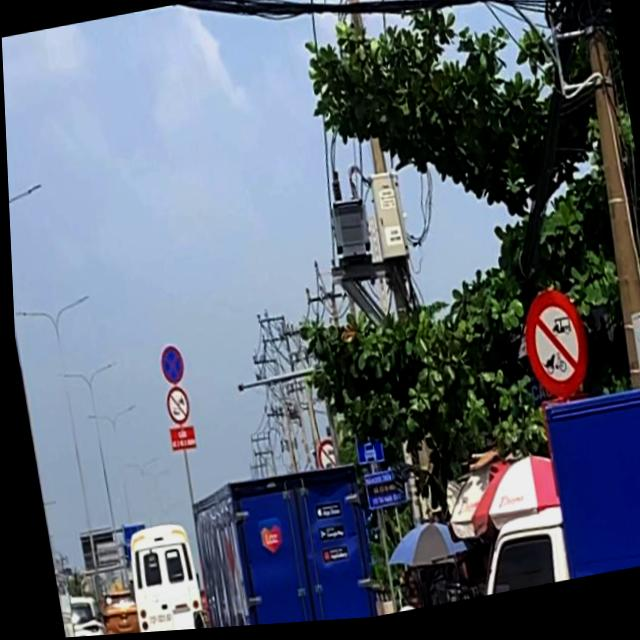Cam dung xe va do xe: (153, 345, 183, 389)
